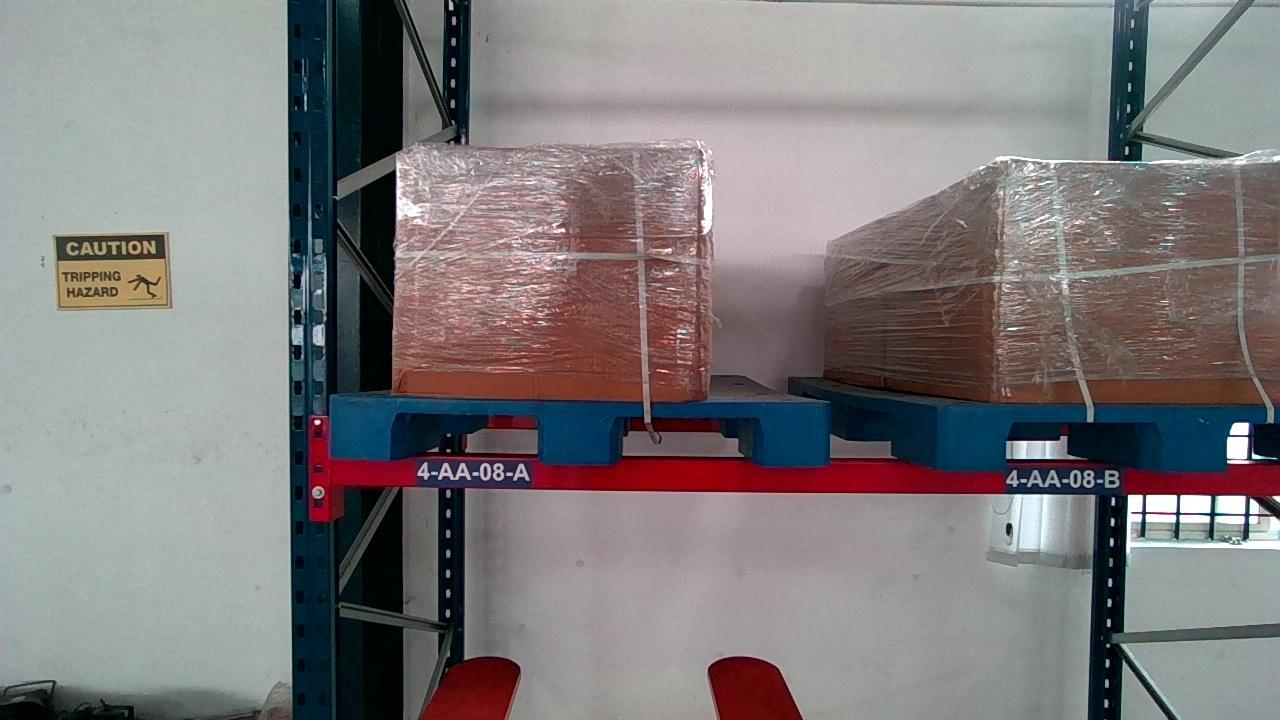h_rack: (327, 460, 1280, 497)
small_pallet: (336, 395, 824, 462), (969, 408, 1280, 461)
